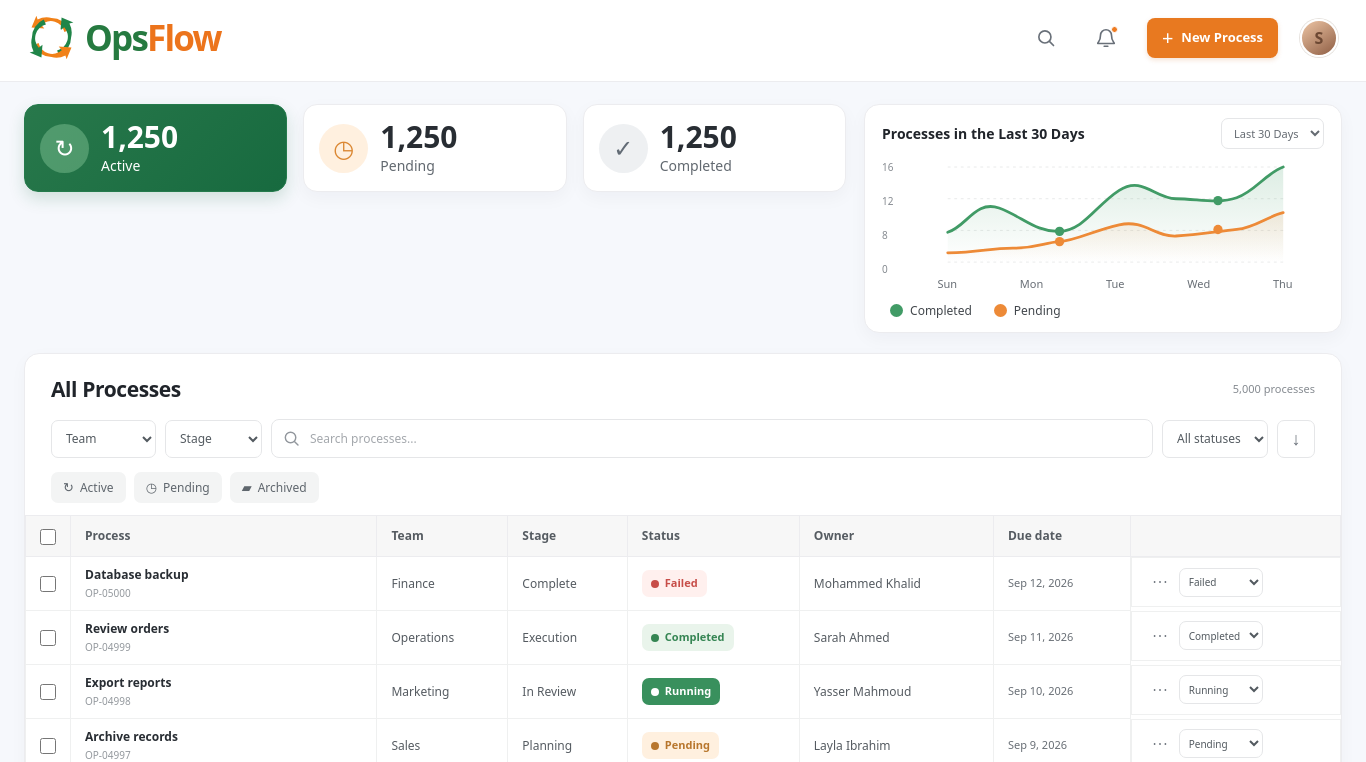
Test: OperationsDashboard › filters processes by team and stage
Check: the text "OP-05000" is shown, box [85,586,131,600]
Select "Sales" in the dropdown named "Team" at (104,438), box [51,420,156,458]
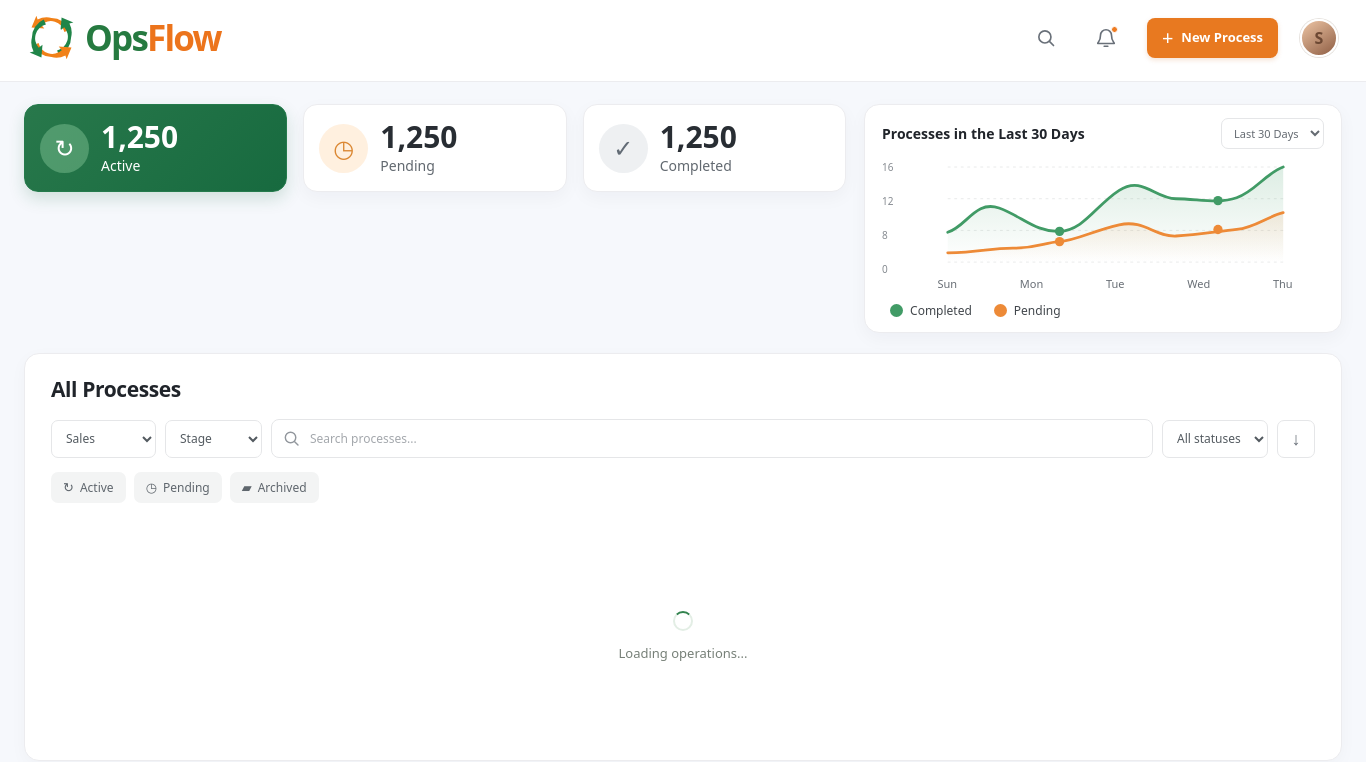
Select "Planning" in the dropdown named "Stage" at (214,438), box [165,420,262,458]
(page scrolled)
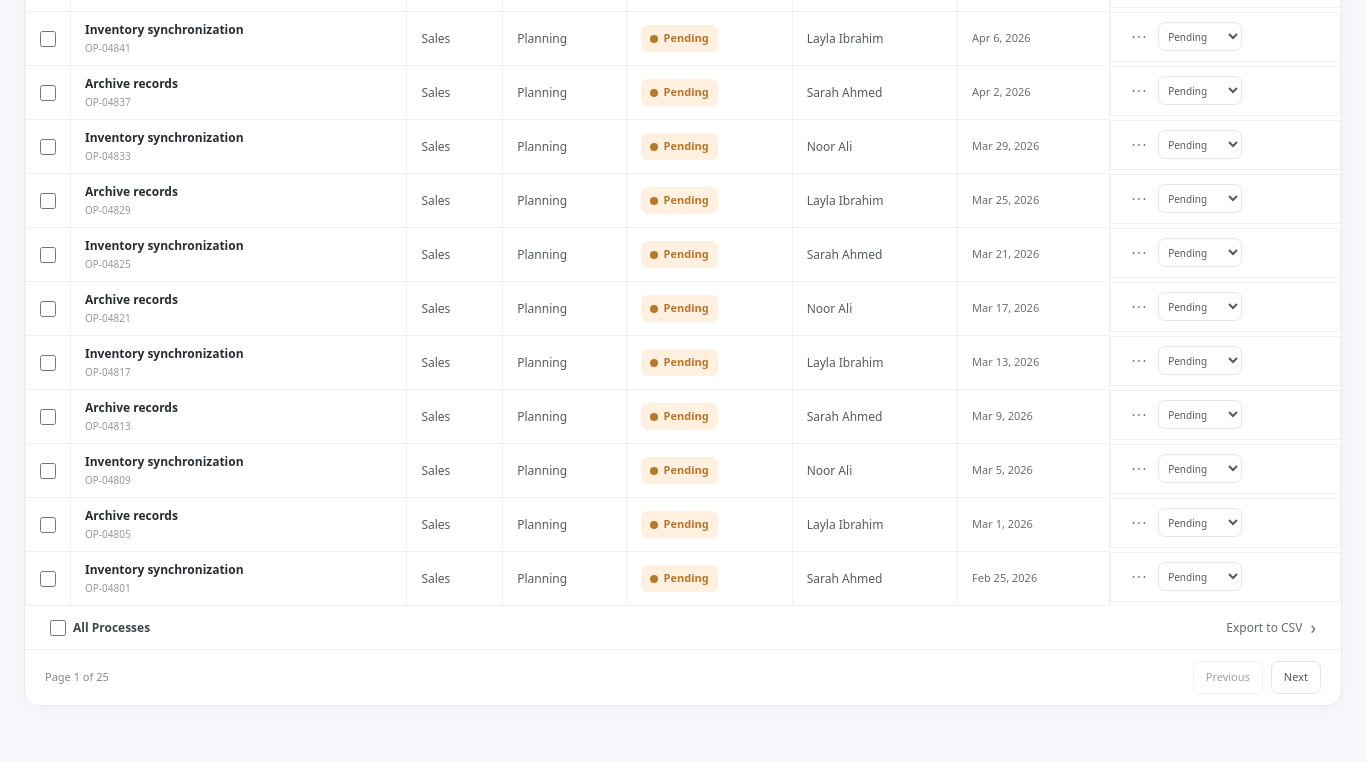
Check: the text "Sales" in the row of "OP-04841" is shown, box [421,30,450,46]
Check: the text "Planning" in the row of "OP-04841" is shown, box [517,30,567,46]
Check: the text "Sales" in the row of "OP-04837" is shown, box [421,84,450,100]
